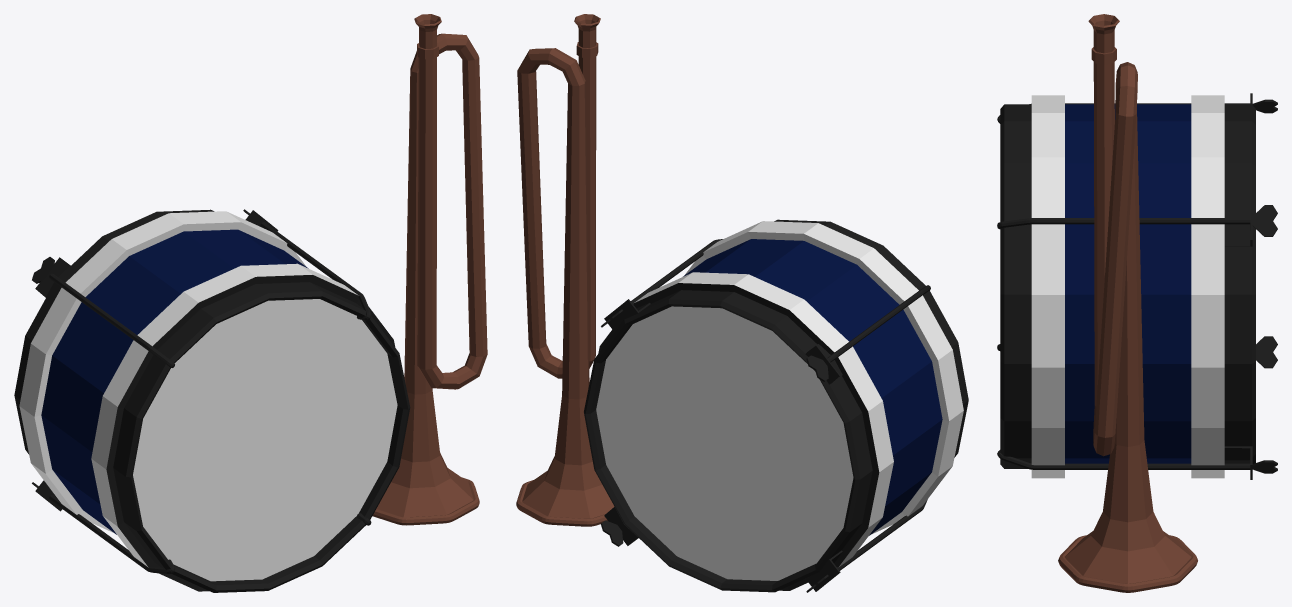
The model's file is 5baraban.glb.
3 renders of one model, left to right at view 1: azimuth 30°, elevation 25°; view 2: azimuth 150°, elevation 25°; view 3: azimuth 270°, elevation 25°, orthographic. The views are drawn at different scales.
Parts seen in each view (by area): view 1: Цилиндр.043; view 2: Цилиндр.043; view 3: Цилиндр.043.
Part boxes in pixels (left/top/right/bottom): Цилиндр.043: left=14, top=14, right=487, bottom=592; Цилиндр.043: left=516, top=14, right=968, bottom=592; Цилиндр.043: left=997, top=14, right=1277, bottom=592.
Bounding box in the file's own units: 2.4 × 2.75 × 1.27.
